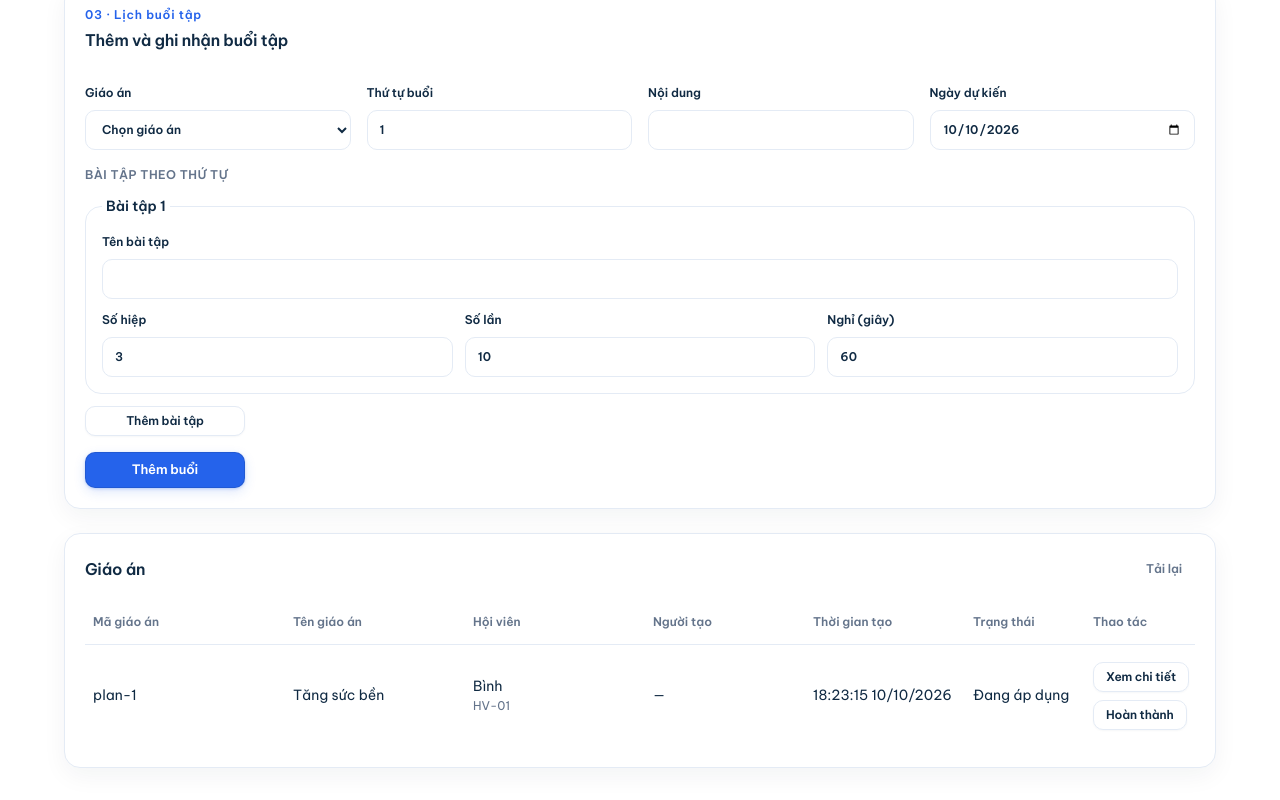
Test: TrainingPage › shows an API 409 conflict after plan completion
(page scrolled)
Click the button "Hoàn thành" at (1140,715), box [1093,700,1187,730]
(page scrolled)
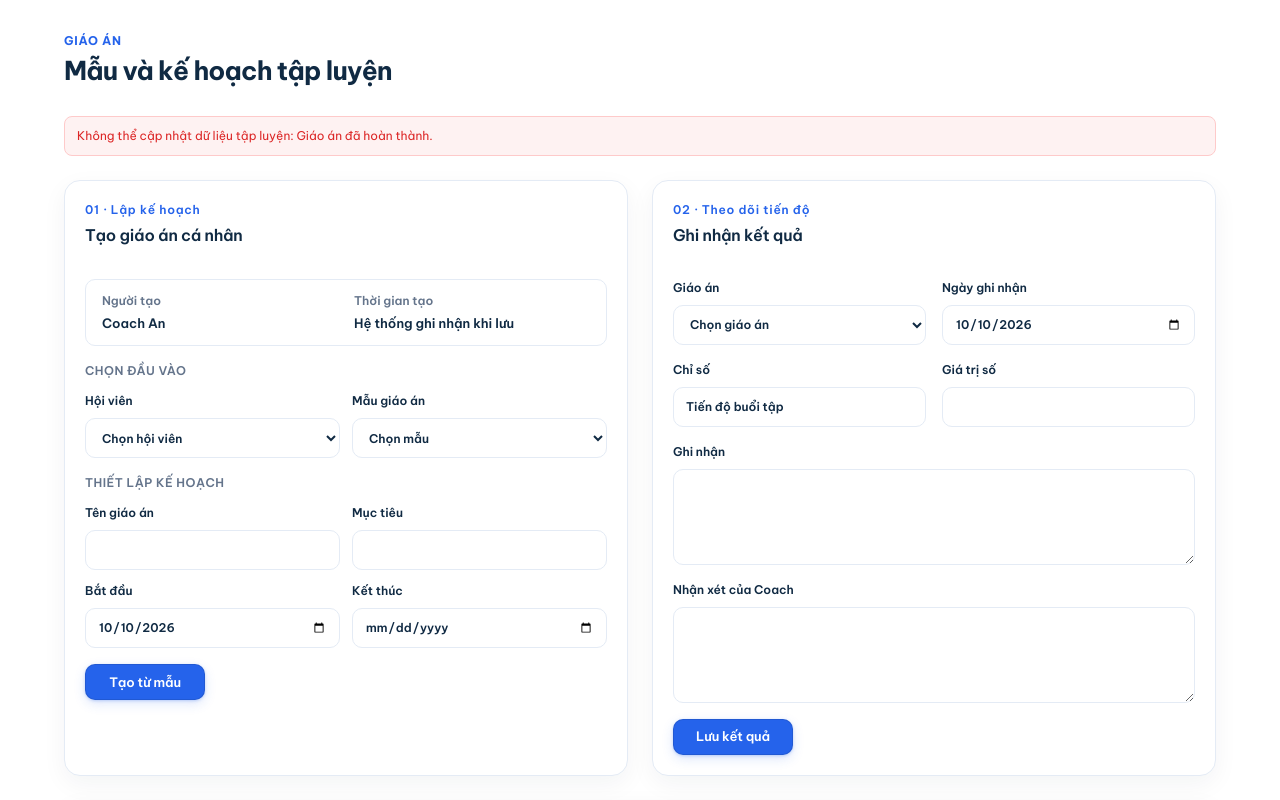
Check: the message shows "Giáo án đã hoàn thành.", box [77,128,433,143]
